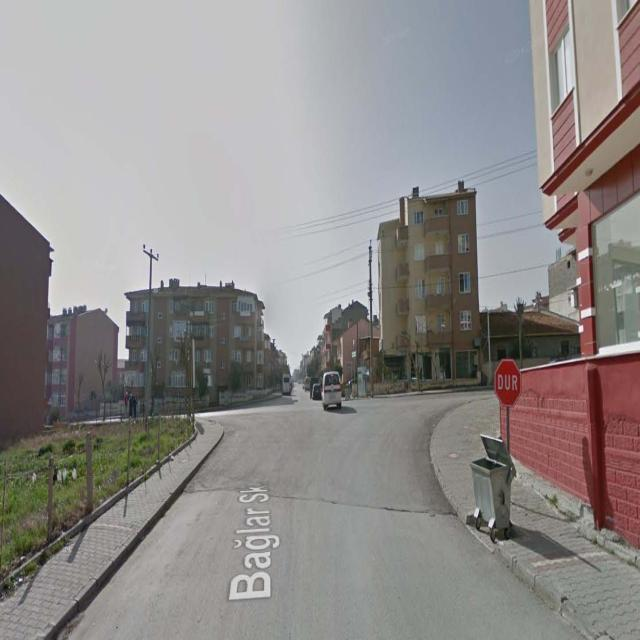dur: (494, 359, 520, 404)
